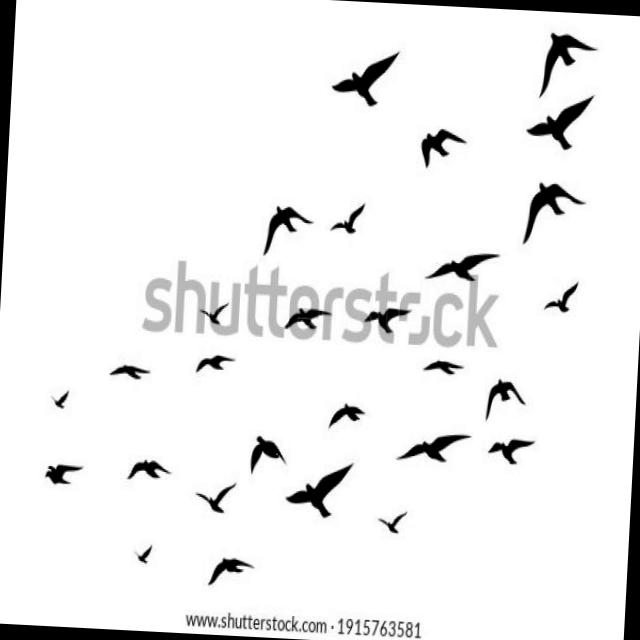bird: (502, 174, 590, 247), (522, 92, 601, 163), (521, 27, 600, 98), (278, 460, 359, 529), (329, 48, 402, 112), (253, 194, 320, 263), (274, 278, 340, 344), (390, 429, 477, 478), (404, 117, 474, 177), (359, 284, 418, 349), (424, 242, 500, 292), (474, 435, 538, 487), (321, 200, 383, 251), (188, 466, 241, 524), (418, 334, 474, 388), (476, 372, 534, 424), (37, 450, 87, 500), (200, 548, 256, 592), (322, 400, 382, 440), (370, 485, 410, 544), (121, 449, 172, 494), (182, 351, 242, 386), (534, 282, 586, 320), (250, 428, 290, 476), (42, 381, 85, 425), (106, 356, 157, 387), (194, 300, 234, 335), (128, 540, 162, 576)
